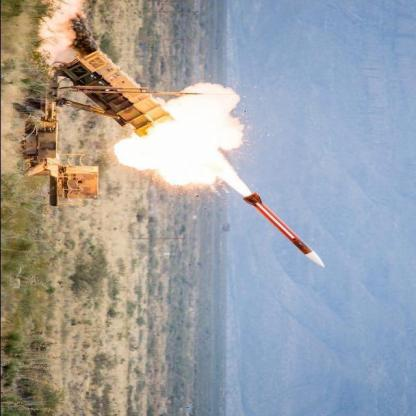MIL_TBM: (241, 184, 328, 270)
